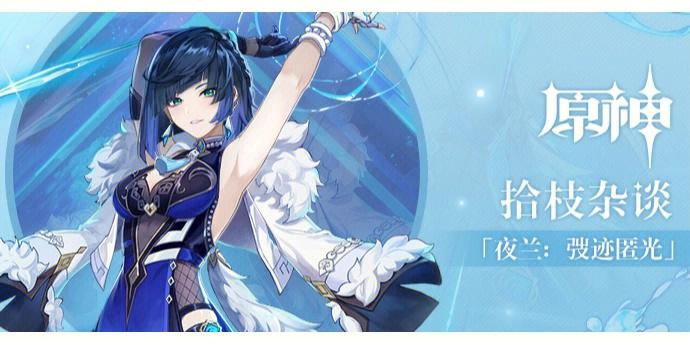夜兰: (83, 14, 389, 337)
